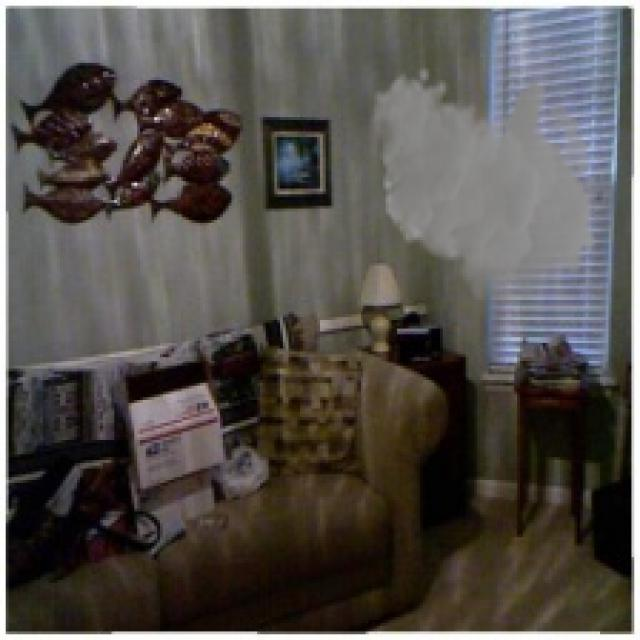smoke: (372, 65, 597, 308)
